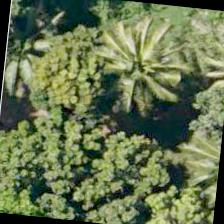Kelapa_Sawit: (91, 20, 190, 119), (2, 1, 68, 96)
